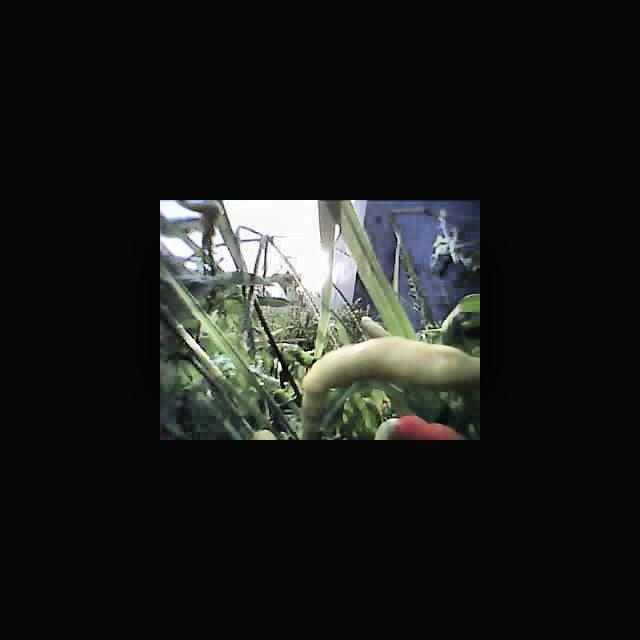Cabai: (377, 416, 475, 440)
